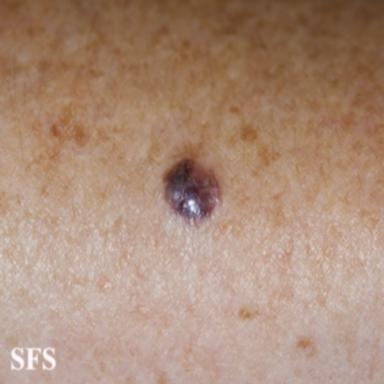Melanoma: (164, 159, 221, 222)
